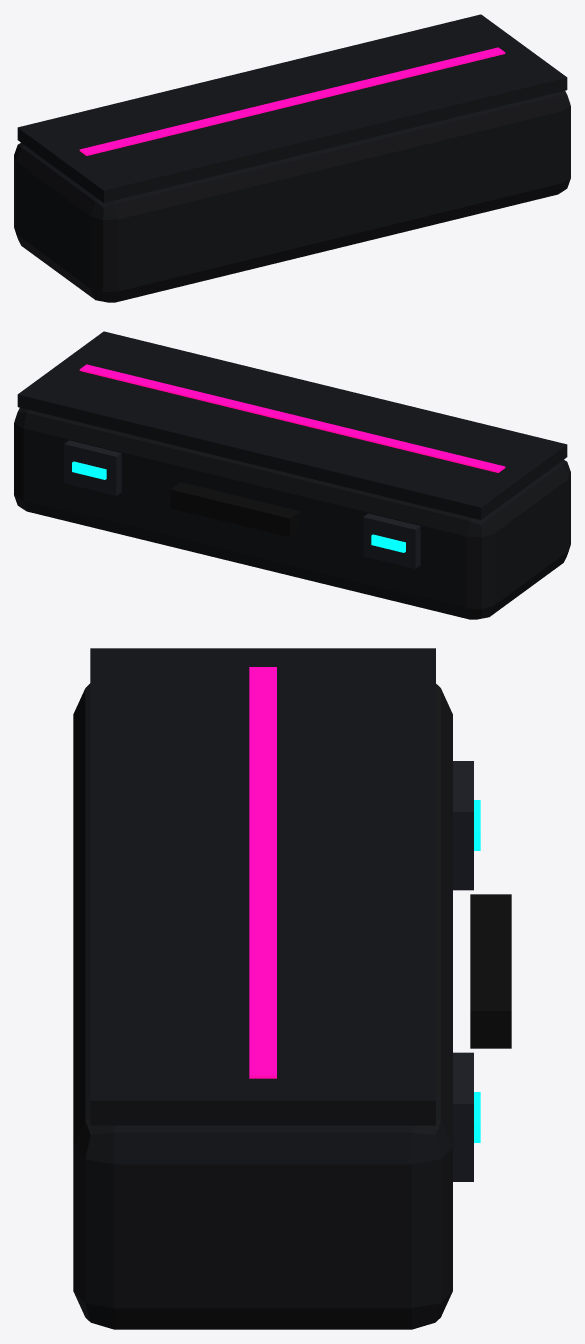
Rendered from Loot_PrototypeWeaponCase.fbx.
The picture shows the model from 3 angles, top to bottom: view 1: azimuth 30°, elevation 25°; view 2: azimuth 150°, elevation 25°; view 3: azimuth 270°, elevation 25°; orthographic projection. The views are drawn at different scales.
Parts seen in each view (by area): view 1: Loot_PrototypeWeaponCase__CarbonFiber, Loot_PrototypeWeaponCase__NeonCrimson; view 2: Loot_PrototypeWeaponCase__CarbonFiber, Loot_PrototypeWeaponCase__DarkMetal, Loot_PrototypeWeaponCase__NeonCrimson, Loot_PrototypeWeaponCase__Rubber, Loot_PrototypeWeaponCase__NeonCyan; view 3: Loot_PrototypeWeaponCase__CarbonFiber, Loot_PrototypeWeaponCase__NeonCrimson, Loot_PrototypeWeaponCase__Rubber, Loot_PrototypeWeaponCase__DarkMetal.
Part boxes in pixels (<box>): Loot_PrototypeWeaponCase__CarbonFiber: <box>14,14,570,302</box>; Loot_PrototypeWeaponCase__NeonCrimson: <box>79,47,505,155</box>; Loot_PrototypeWeaponCase__CarbonFiber: <box>14,331,570,619</box>; Loot_PrototypeWeaponCase__DarkMetal: <box>64,440,420,568</box>; Loot_PrototypeWeaponCase__NeonCrimson: <box>79,364,505,472</box>; Loot_PrototypeWeaponCase__Rubber: <box>170,482,300,537</box>; Loot_PrototypeWeaponCase__NeonCyan: <box>72,461,405,552</box>; Loot_PrototypeWeaponCase__CarbonFiber: <box>73,648,452,1329</box>; Loot_PrototypeWeaponCase__NeonCrimson: <box>249,667,276,1078</box>; Loot_PrototypeWeaponCase__Rubber: <box>470,894,511,1048</box>; Loot_PrototypeWeaponCase__DarkMetal: <box>453,761,473,1181</box>.
Size of the model in its own units: 3.2 by 0.77 by 1.27.
